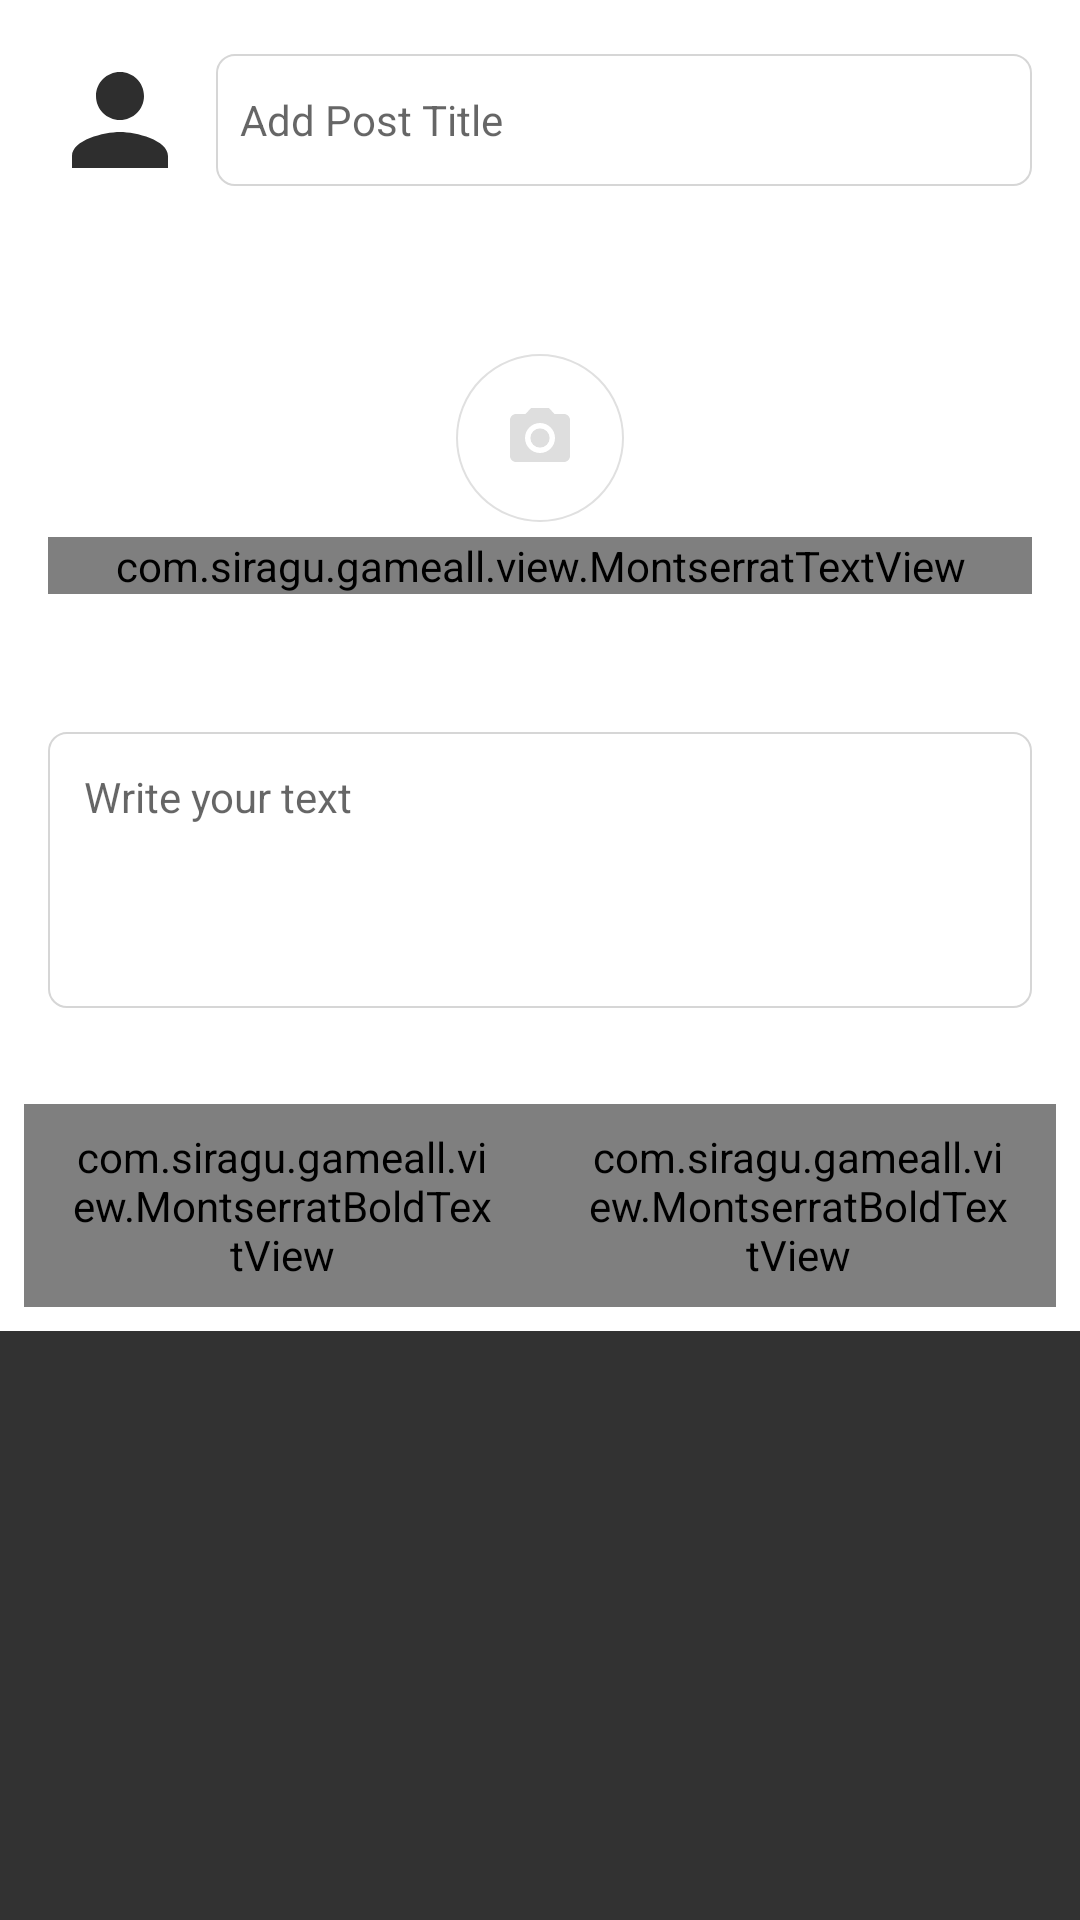

Point at icon controls on the screen. Image size 1080 × 1920, points as (x,y).
camera: (540,438)
